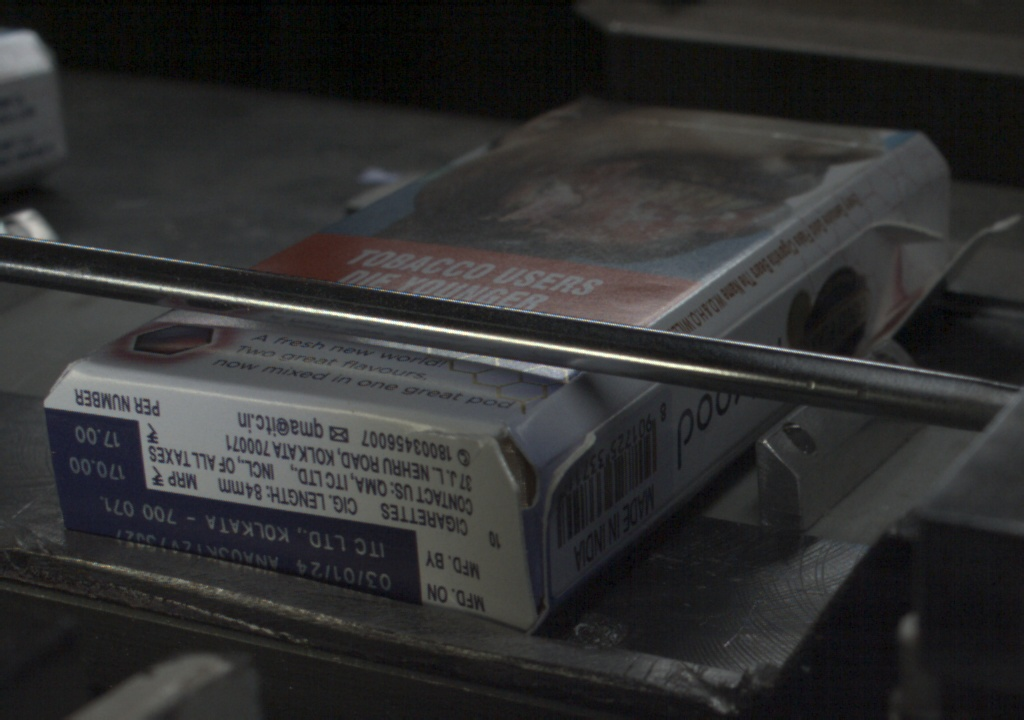g_label: (58, 485, 416, 599)
g_lmiter: (785, 238, 851, 295), (727, 282, 793, 333)
ng_bottom: (436, 422, 531, 510)
ng_lmiter: (535, 432, 598, 608), (877, 217, 943, 250)
ng_miter: (894, 163, 955, 287)
price: (54, 417, 142, 485)
